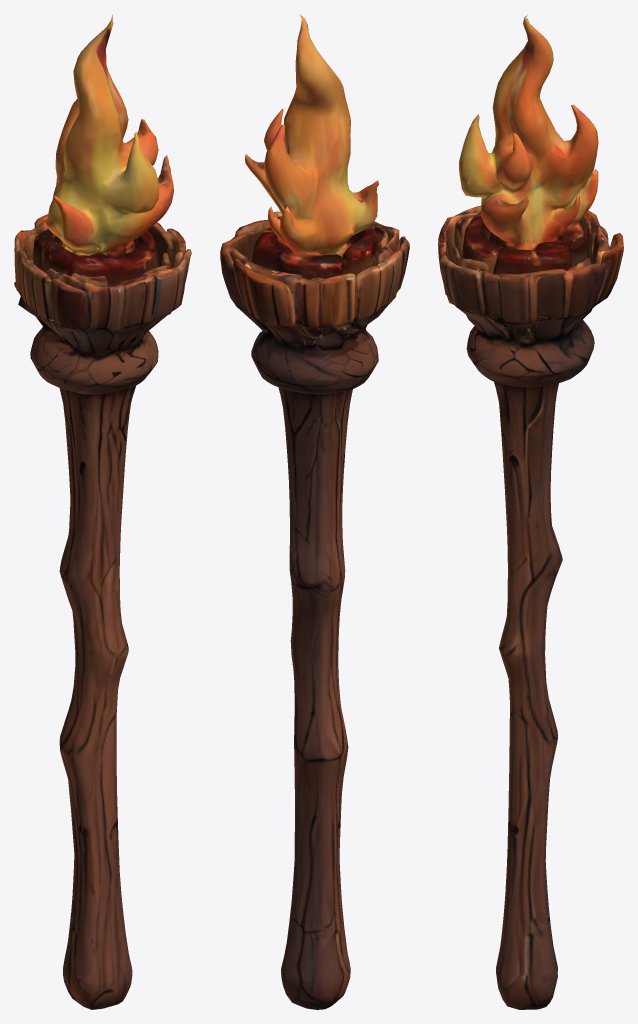
The model's file is torch.glb.
3 renders of one model, left to right at view 1: azimuth 30°, elevation 25°; view 2: azimuth 150°, elevation 25°; view 3: azimuth 270°, elevation 25°, orthographic.
Parts seen in each view (by area): view 1: tripo_node_5c871a8f-f291-4961-9a64-e9b48bc1f4ec; view 2: tripo_node_5c871a8f-f291-4961-9a64-e9b48bc1f4ec; view 3: tripo_node_5c871a8f-f291-4961-9a64-e9b48bc1f4ec.
Boxes of the visible parts, x1=… form: tripo_node_5c871a8f-f291-4961-9a64-e9b48bc1f4ec: x1=14, y1=15, x2=191, y2=1009; tripo_node_5c871a8f-f291-4961-9a64-e9b48bc1f4ec: x1=220, y1=14, x2=409, y2=1009; tripo_node_5c871a8f-f291-4961-9a64-e9b48bc1f4ec: x1=438, y1=15, x2=623, y2=1009.
Bounding box in the file's own units: 0.1595 × 0.9976 × 0.1682.
Materials: 1 (1 with a texture image).
